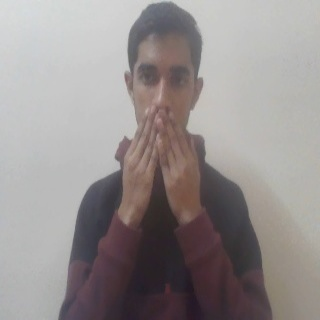Thank You: (118, 106, 208, 236)
